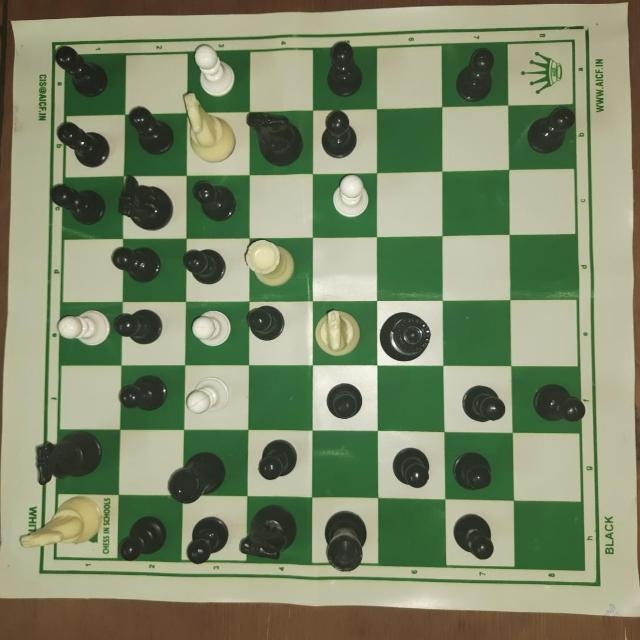black-knight: (33, 429, 103, 487), (244, 106, 308, 169), (238, 500, 299, 563), (114, 170, 176, 231)
black-pawn: (53, 42, 117, 106), (106, 236, 171, 292), (522, 98, 578, 159), (116, 508, 172, 566), (531, 374, 589, 429), (180, 510, 234, 569), (53, 116, 116, 166), (126, 102, 181, 159), (112, 308, 176, 356), (49, 177, 113, 224), (453, 46, 501, 108), (188, 178, 249, 225), (323, 37, 369, 97), (178, 242, 233, 292), (448, 511, 502, 561), (460, 378, 512, 429), (117, 367, 177, 411), (320, 378, 372, 428), (253, 436, 303, 488), (321, 104, 365, 163), (447, 443, 494, 498), (384, 441, 436, 490), (244, 300, 292, 345)
black-queen: (376, 306, 433, 362)
black-rook: (320, 500, 372, 577), (166, 448, 230, 506)
white-knight: (15, 494, 103, 553), (181, 85, 238, 168), (311, 304, 367, 362)
white-pawn: (188, 36, 240, 95), (181, 369, 234, 419), (55, 306, 113, 351), (186, 302, 234, 354), (330, 173, 372, 226)
white-rook: (242, 234, 297, 287)
